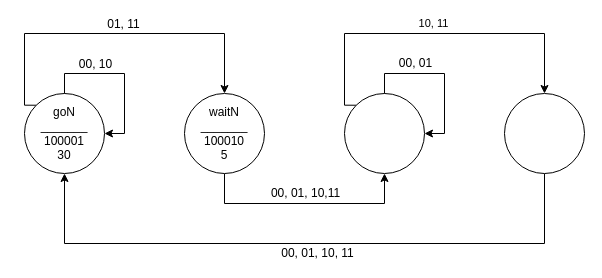
This 602x278 diagram has some shape labels left out. The centre of each missing label's shape, as x and y in pixels:
"goE _______ 001100 30" goes at pixel 384 133.
"waitE _______ 010100 5" goes at pixel 544 133.
